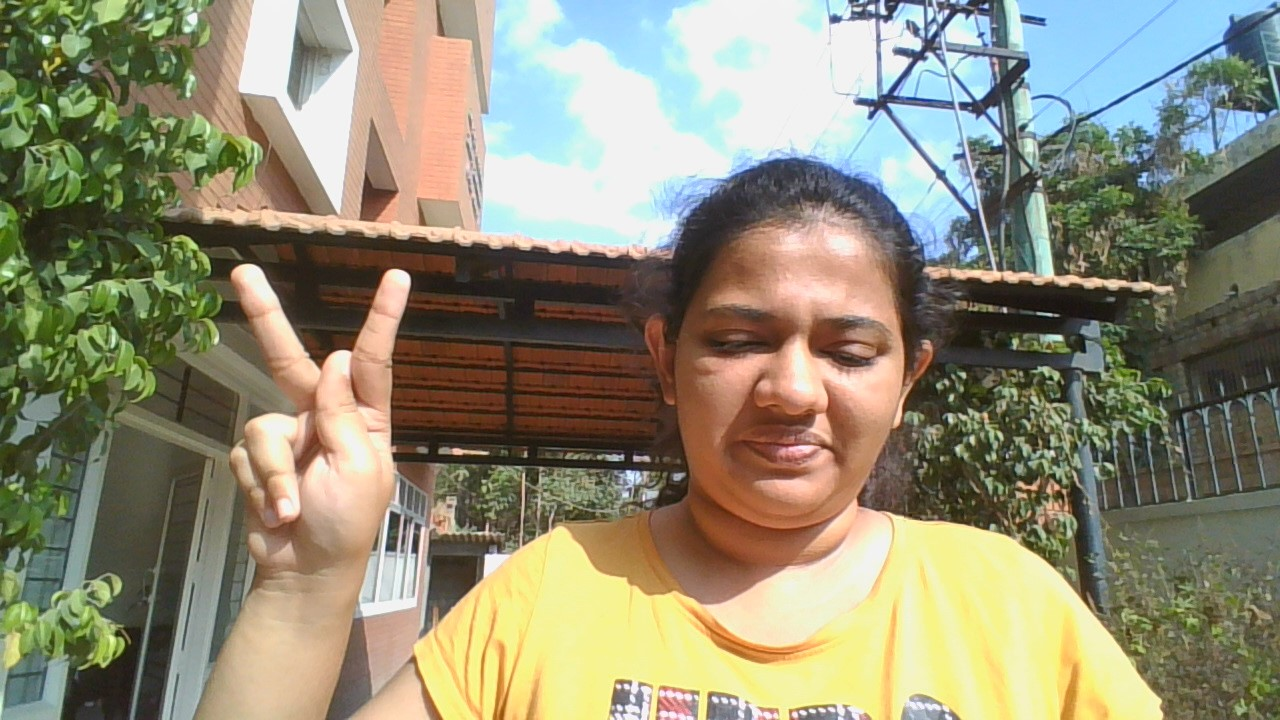k: (212, 255, 419, 596)
